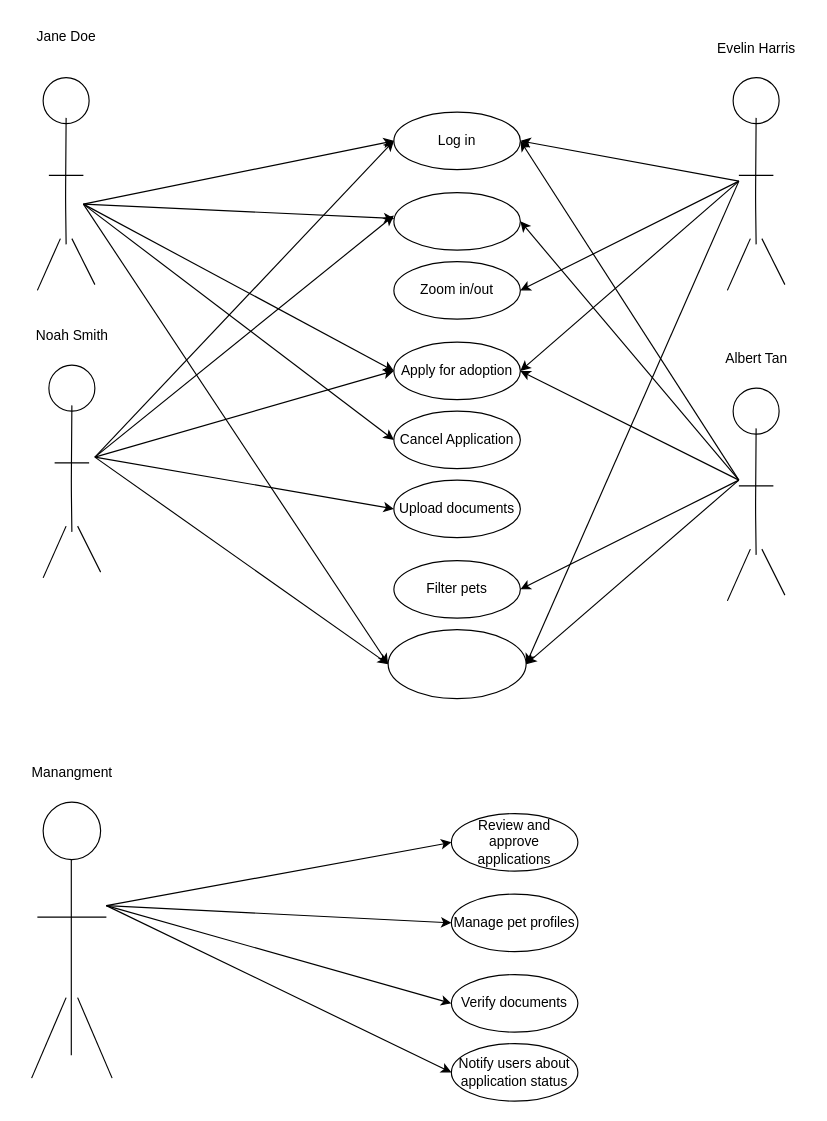
The diagram is 827 pixels wide and 1121 high, and some of its shapes have lost their labels. Here are the shapes that lost their labels. From the top down, the box of each, then its label:
(393, 191, 520, 250): Fill out questionnaire
(387, 628, 526, 699): Application Status
